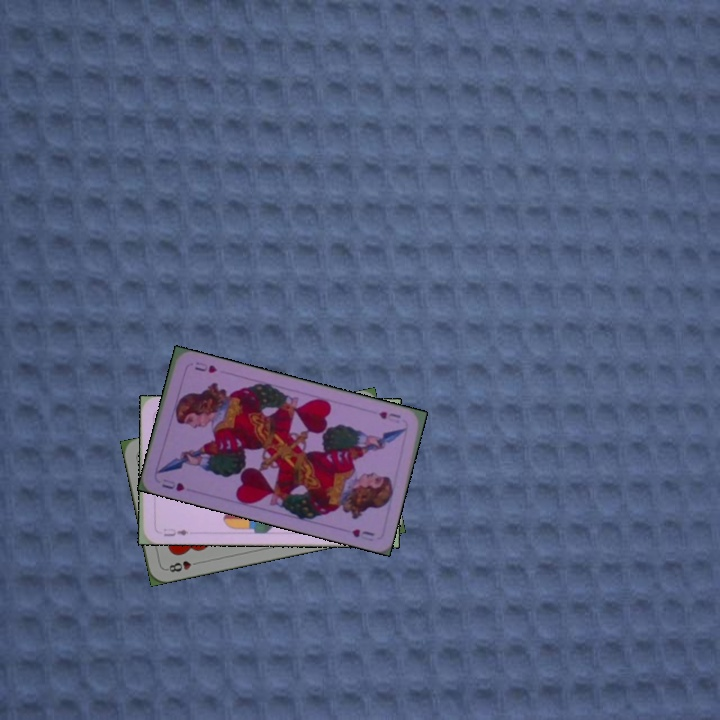EU: (159, 524, 191, 539)
H8: (162, 557, 203, 575)
HU: (158, 475, 187, 494), (374, 407, 403, 422)
